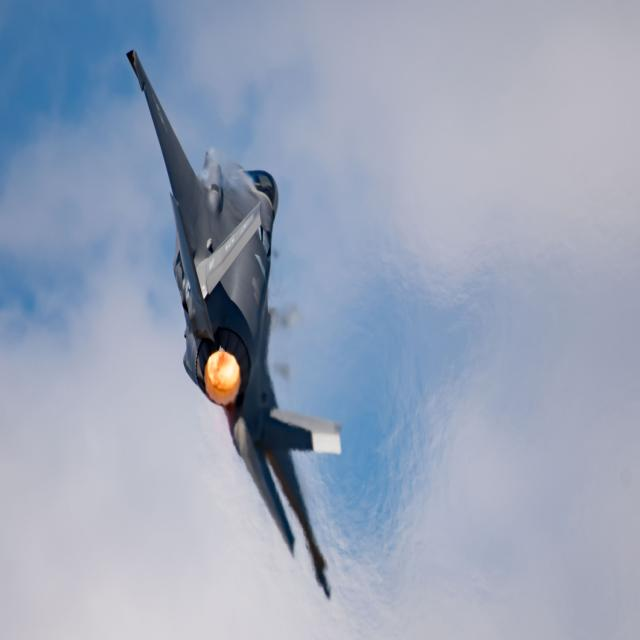MIL_Plane: (125, 49, 343, 600)
